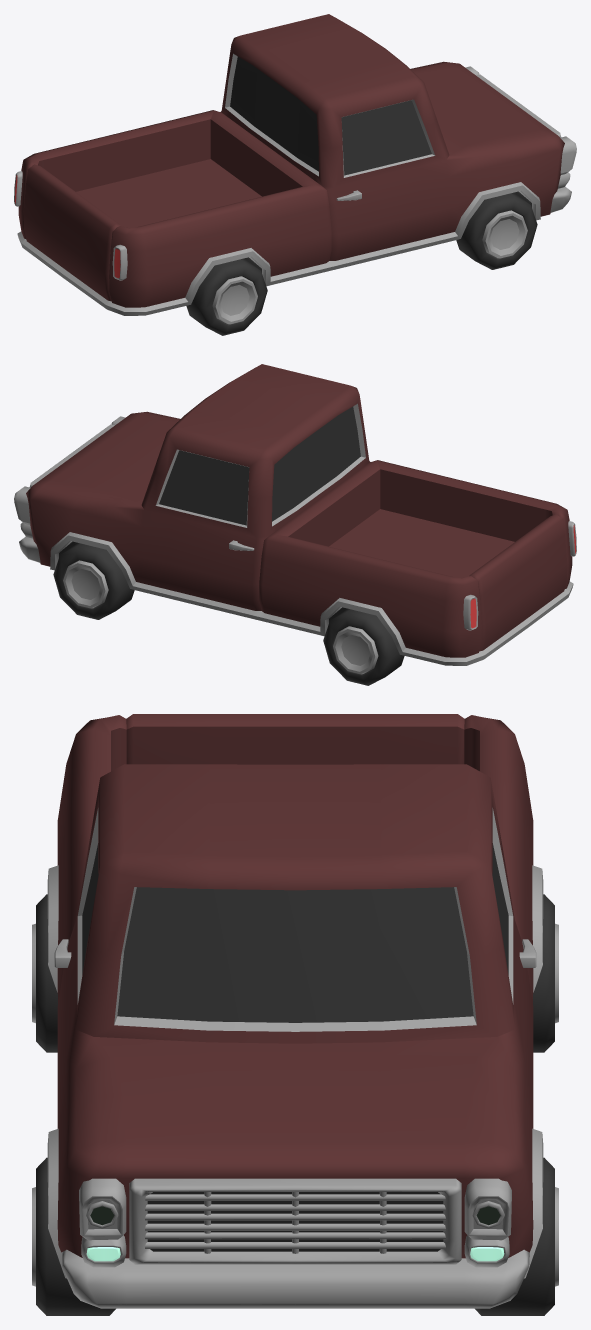
Rendered from truck.fbx.
3 views of the same model, one above another, from view 1: azimuth 30°, elevation 25°; view 2: azimuth 150°, elevation 25°; view 3: azimuth 270°, elevation 25° (orthographic). The views are drawn at different scales.
Parts seen in each view (by area): view 1: model_truck_01; view 2: model_truck_01; view 3: model_truck_01.
Part boxes in pixels (left/top/right/bottom): model_truck_01: left=14, top=14, right=576, bottom=335; model_truck_01: left=14, top=364, right=576, bottom=685; model_truck_01: left=32, top=714, right=558, bottom=1315.
Size of the model in its own units: 6.07 by 2.43 by 3.
